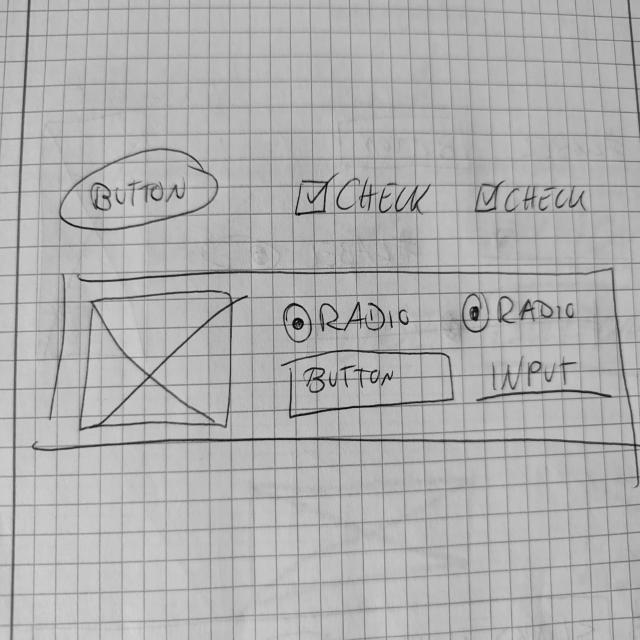button: (57, 147, 221, 233), (285, 346, 457, 420)
checkbox: (291, 171, 435, 220), (472, 180, 590, 218)
container: (45, 266, 639, 454)
image: (73, 287, 237, 433)
input: (474, 352, 614, 406)
radio: (281, 298, 415, 345), (459, 290, 578, 335)
